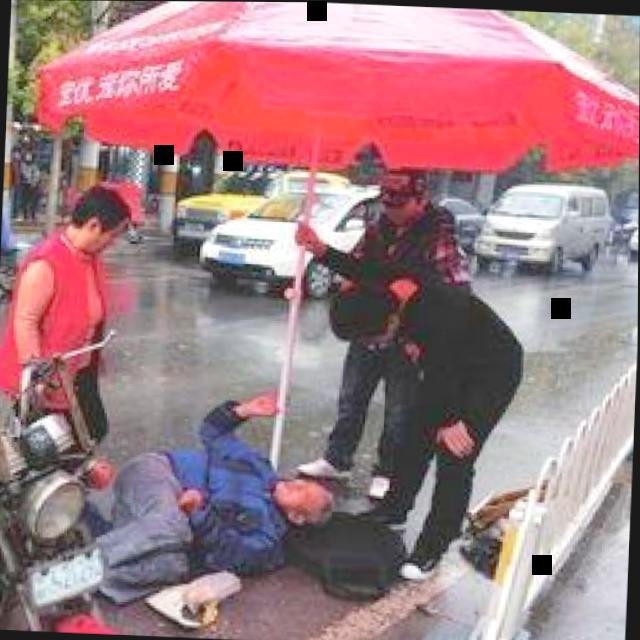Fall-Detected: (80, 376, 350, 625)
